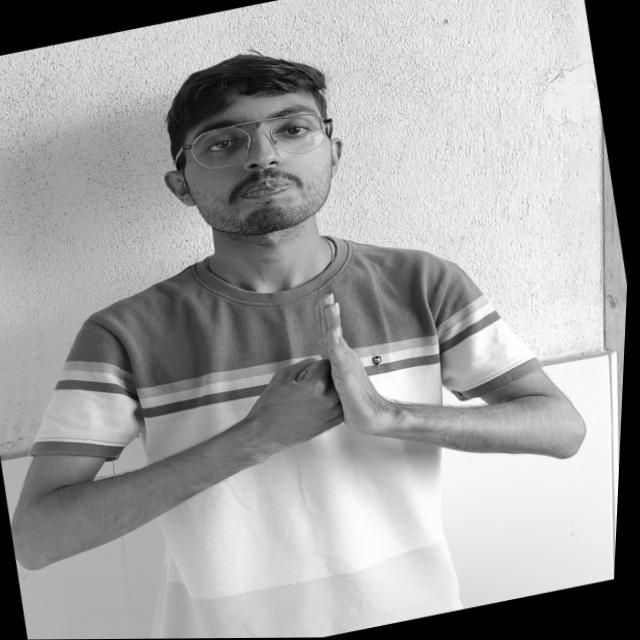Well Done: (171, 254, 488, 505)
